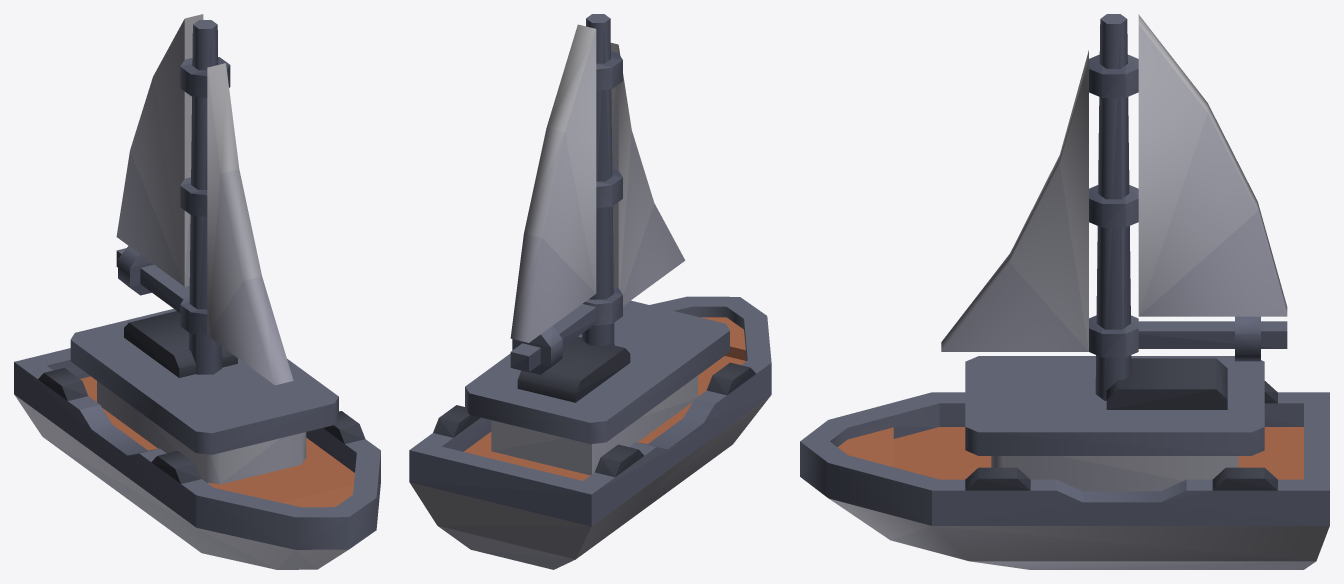
File: watercraft_boat_sail_b.glb
3 renders of one model, left to right at view 1: azimuth 30°, elevation 25°; view 2: azimuth 150°, elevation 25°; view 3: azimuth 270°, elevation 25°, orthographic. The views are drawn at different scales.
Visible parts, largest first — view 1: watercraft_boat_sail_b; view 2: watercraft_boat_sail_b; view 3: watercraft_boat_sail_b.
Boxes of the visible parts, box(x1,y1,x2,y2) form: watercraft_boat_sail_b: box(14, 14, 380, 569); watercraft_boat_sail_b: box(409, 14, 771, 569); watercraft_boat_sail_b: box(800, 14, 1329, 569).
Size of the model in its own units: 1.78 by 4.48 by 4.07.
